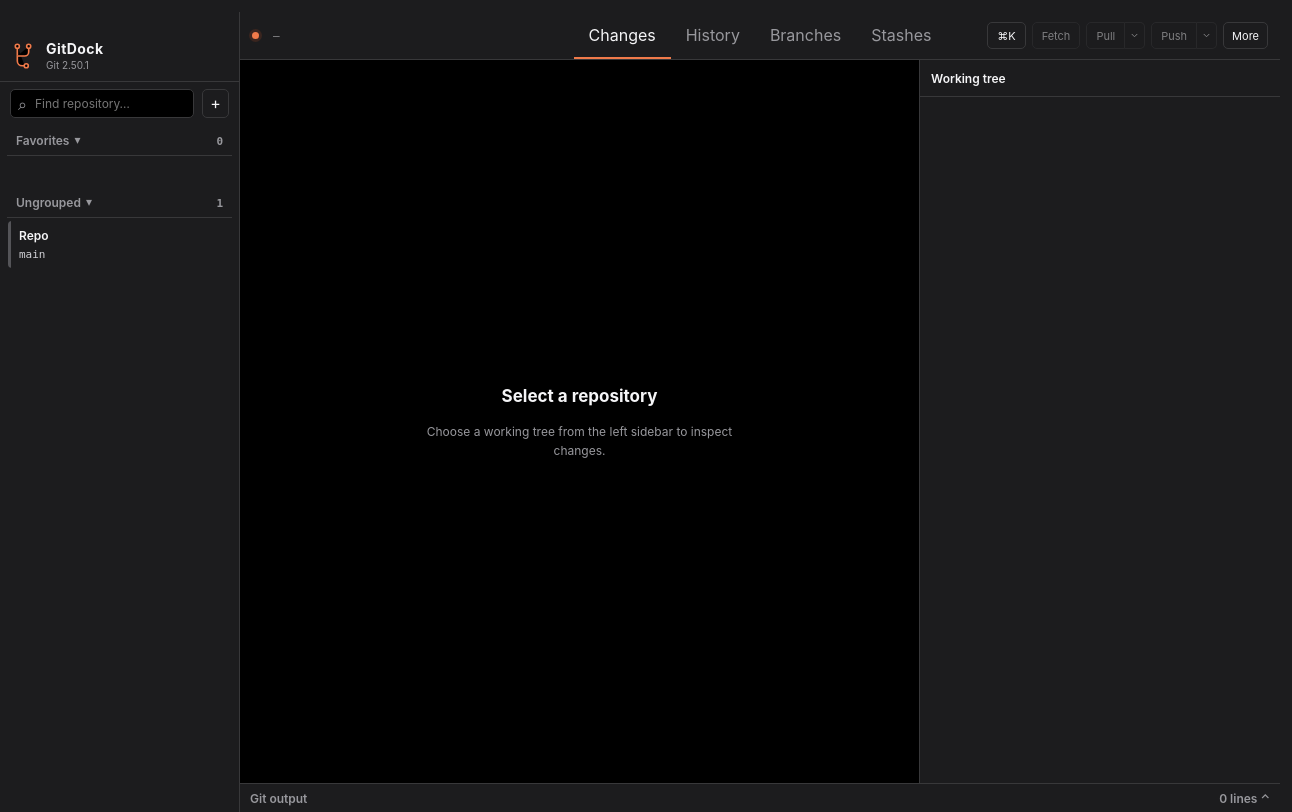
it: shows one toast when the same operation finishes more than once
Click the button with class "repo-row" at [120, 244], box [7,220,232,269]
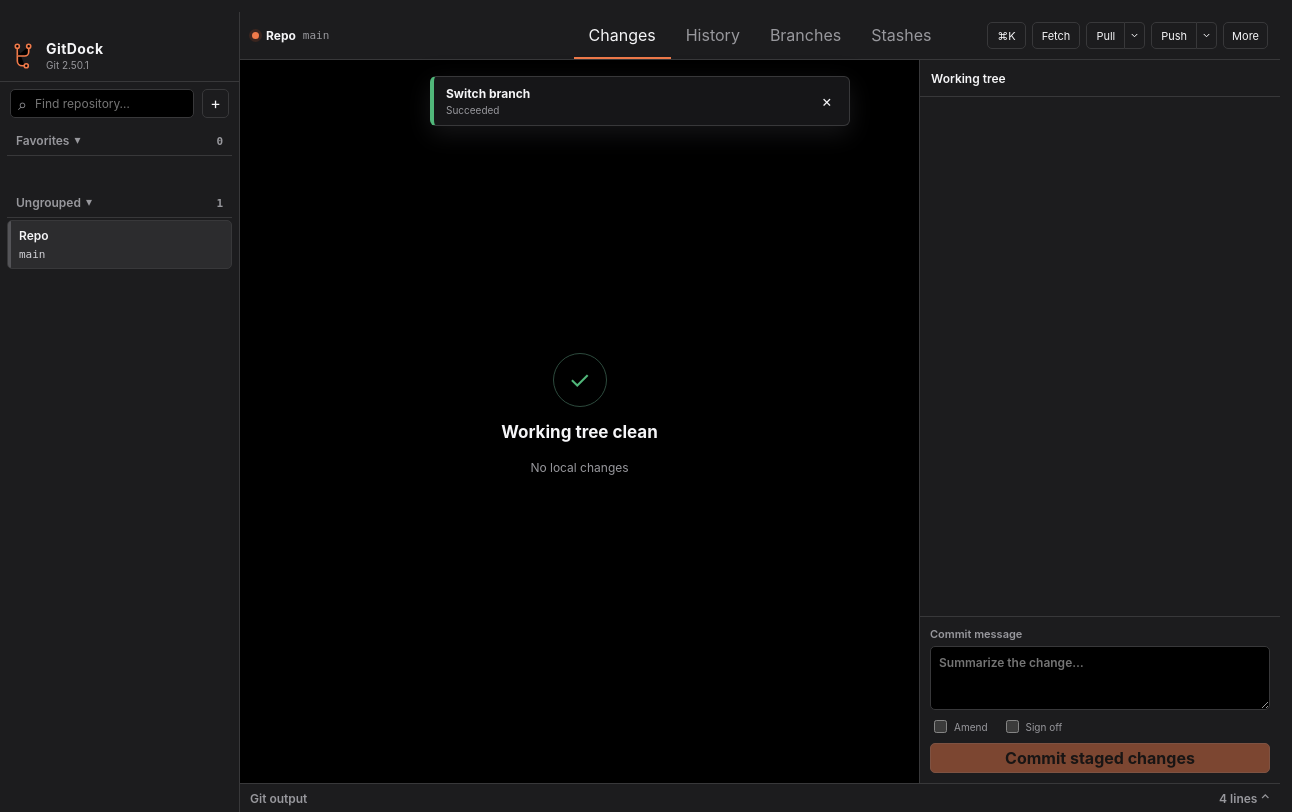
Expected: the message with class "operation-toast" does not show "Git", [430,76,850,126]
Expected: the number of messages with class "operation-toast" is 1, [430,76,850,126]
Expected: the message with class "operation-toast" shows "Switch branch", [446,86,530,101]
